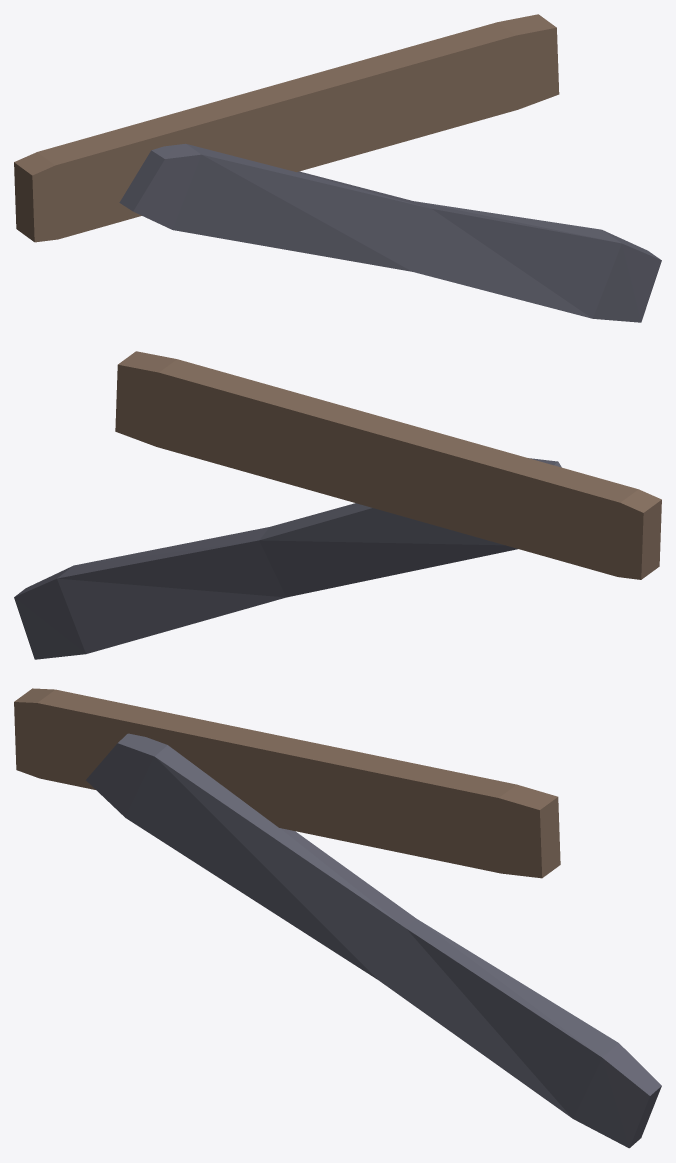
Rendered from SM_Prop_Shanty_BuildingAttachment_03.glb.
The picture shows the model from 3 angles, top to bottom: view 1: azimuth 30°, elevation 25°; view 2: azimuth 150°, elevation 25°; view 3: azimuth 330°, elevation 25°; orthographic projection.
Visible parts, largest first — view 1: SM_Prop_Shanty_BuildingAttachment_03_part00; view 2: SM_Prop_Shanty_BuildingAttachment_03_part00; view 3: SM_Prop_Shanty_BuildingAttachment_03_part00.
Part boxes in pixels (box(x1,y1,x2,y2)): SM_Prop_Shanty_BuildingAttachment_03_part00: box(14, 14, 661, 322); SM_Prop_Shanty_BuildingAttachment_03_part00: box(14, 351, 661, 659); SM_Prop_Shanty_BuildingAttachment_03_part00: box(14, 688, 661, 1148).
Bounding box in the file's own units: 2.18 × 1.06 × 0.1972.
1 material, 1 textured.
